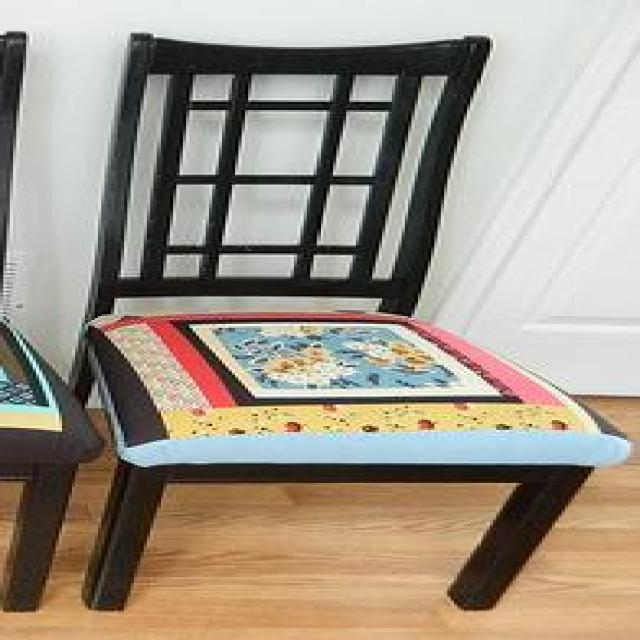chair: (61, 29, 631, 614)
